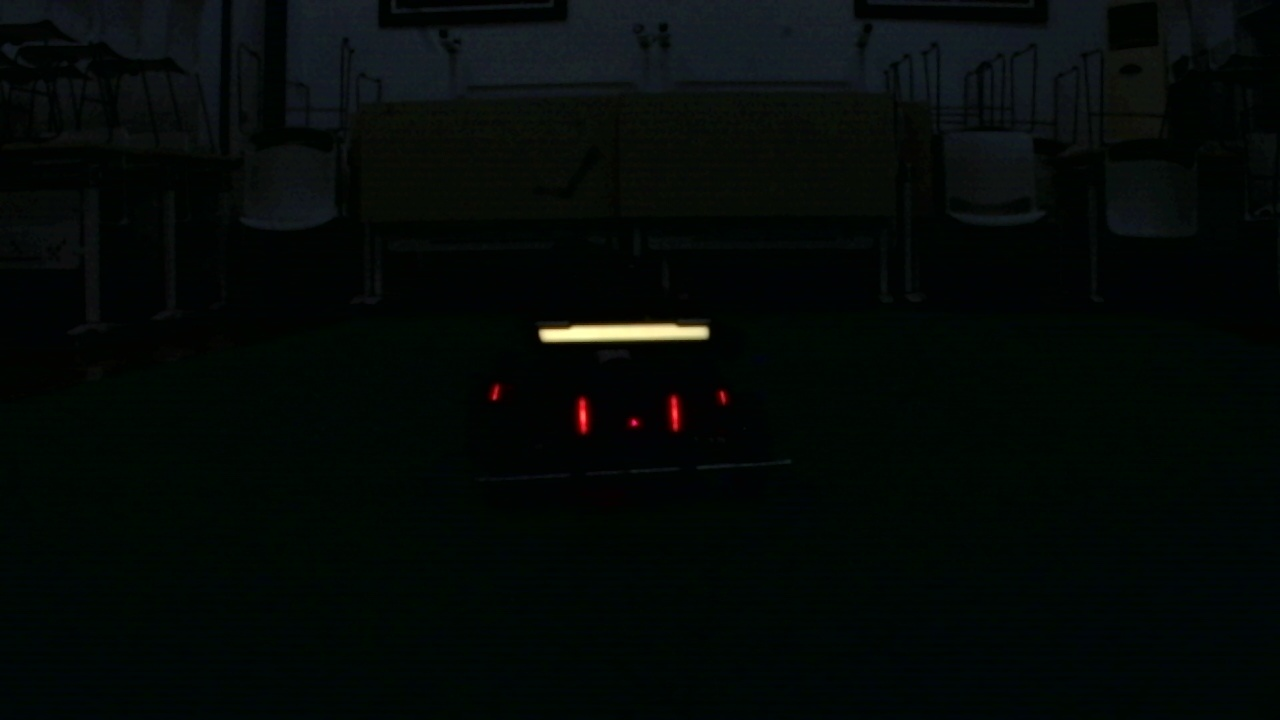lamp: (573, 395, 589, 433), (671, 396, 681, 437)
pair1: (577, 395, 681, 431)
